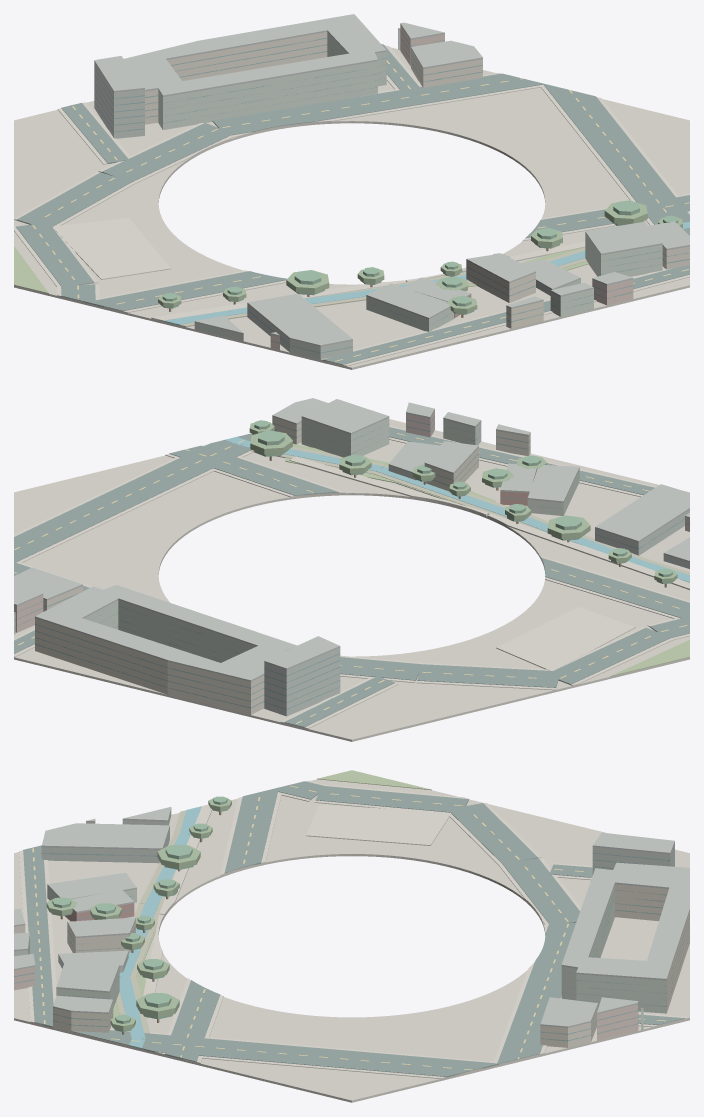
Rendered from surround-P02.glb.
The picture shows the model from 3 angles, top to bottom: view 1: azimuth 30°, elevation 25°; view 2: azimuth 150°, elevation 25°; view 3: azimuth 270°, elevation 25°; orthographic projection.
Parts seen in each view (by area): view 1: P02_neutral; view 2: P02_neutral; view 3: P02_neutral.
Part boxes in pixels (bbox=[...]): P02_neutral: bbox=[14, 14, 689, 369]; P02_neutral: bbox=[14, 398, 689, 741]; P02_neutral: bbox=[14, 770, 689, 1102].
Size of the model in its own units: 16.17 by 1.15 by 14.
Materials: 1 (1 with a texture image).
